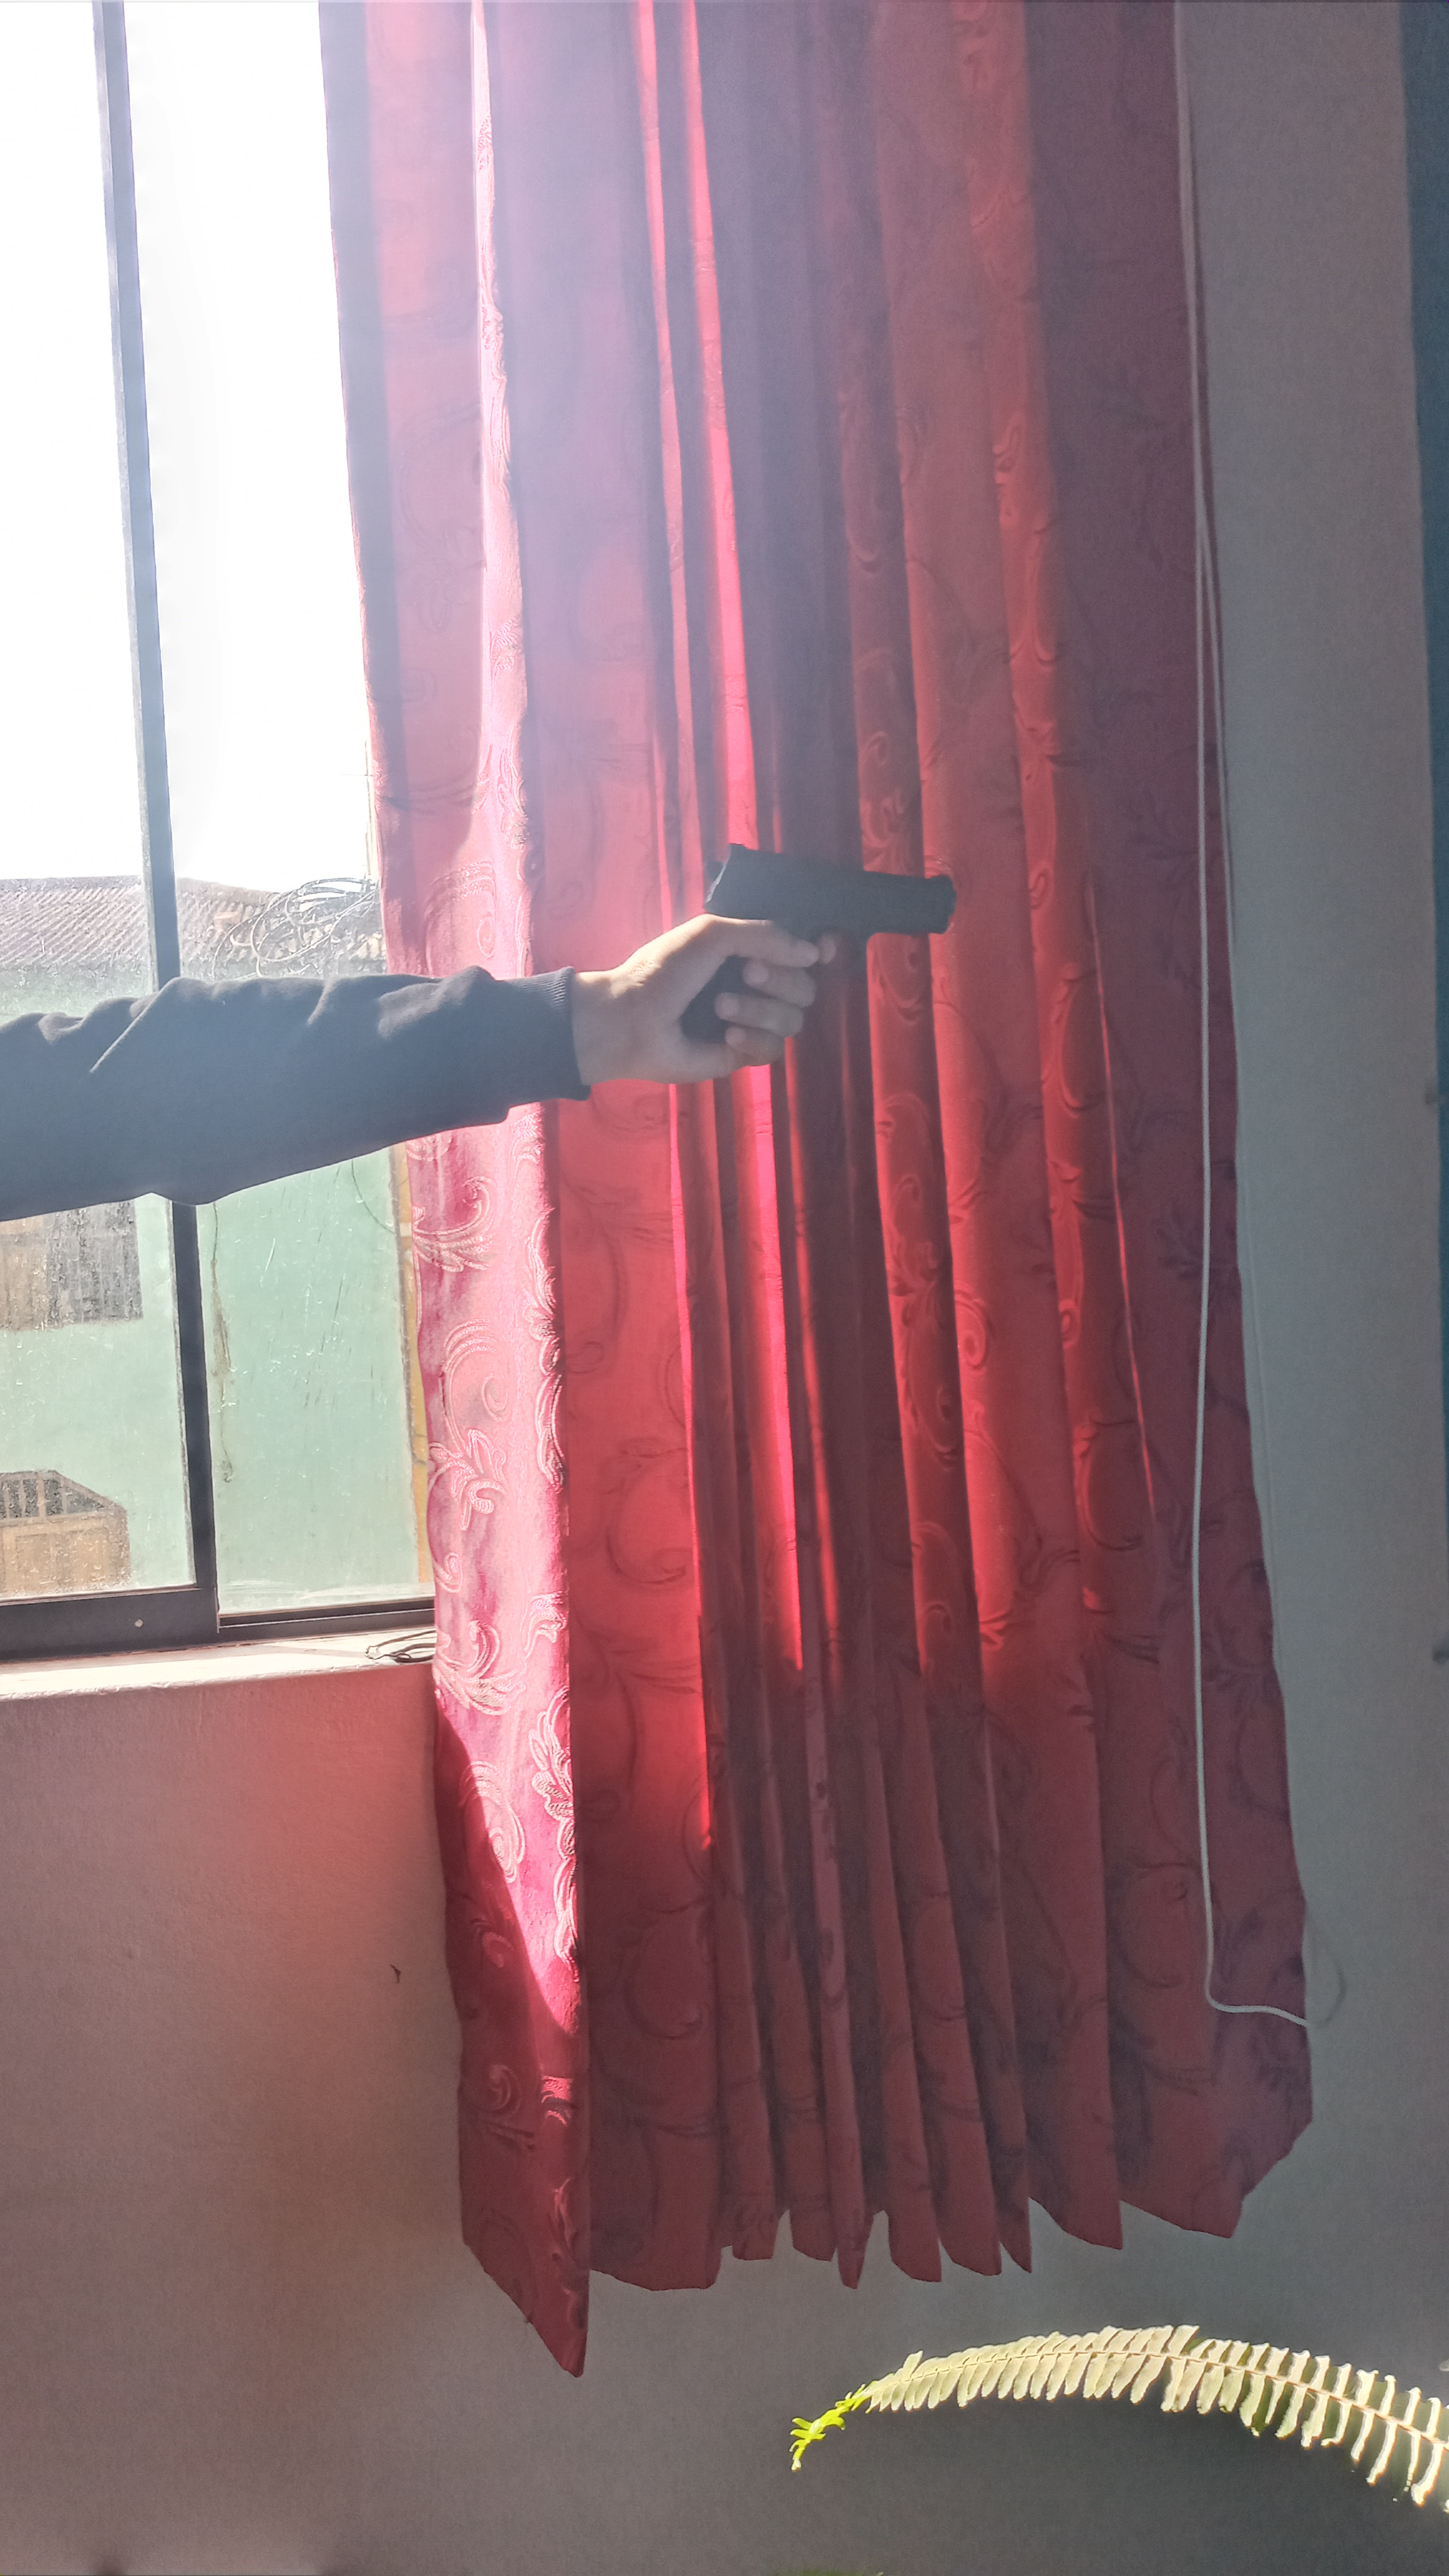Arma: (690, 847, 966, 947)
